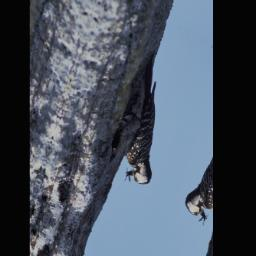Woodpecker: (103, 44, 186, 196)
